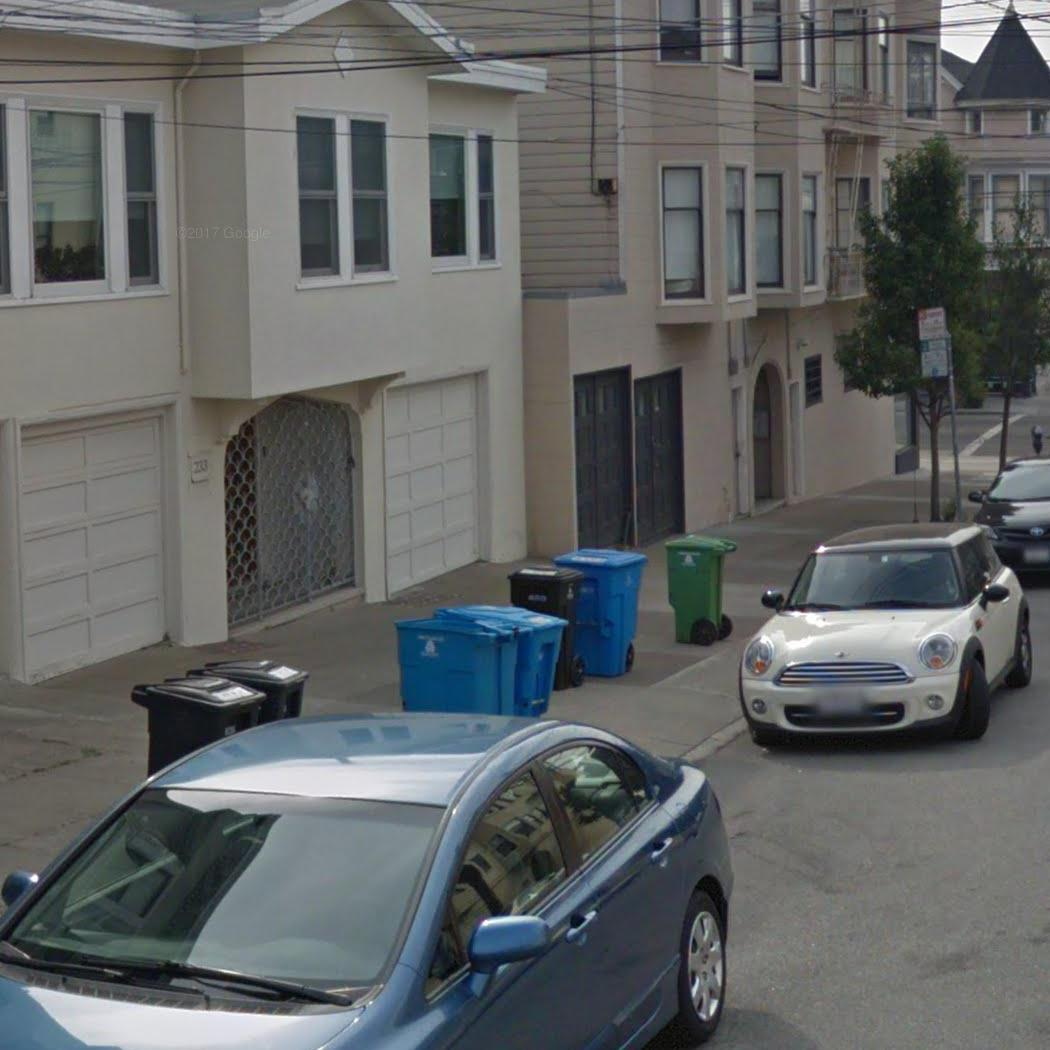2 Hour Parking: (918, 338, 951, 380)
No Parking: (915, 306, 948, 343)
